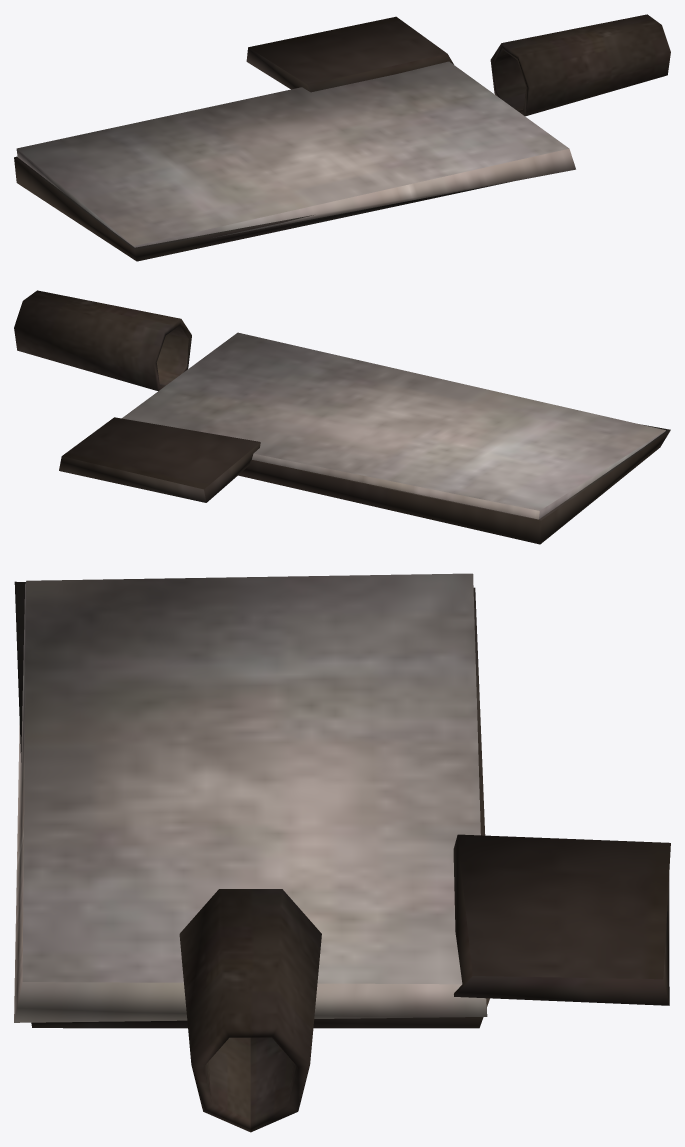
The model's file is kit_lw_spade_iron_p.glb.
3 views of the same model, one above another, from view 1: azimuth 30°, elevation 25°; view 2: azimuth 150°, elevation 25°; view 3: azimuth 270°, elevation 25° (orthographic). The views are drawn at different scales.
Visible parts, largest first — view 1: kit_lw_spade_iron_p; view 2: kit_lw_spade_iron_p; view 3: kit_lw_spade_iron_p.
Part boxes in pixels (bbox=[...]): kit_lw_spade_iron_p: bbox=[14, 14, 670, 261]; kit_lw_spade_iron_p: bbox=[14, 290, 670, 544]; kit_lw_spade_iron_p: bbox=[14, 573, 670, 1132].
Size of the model in its own units: 0.4042 by 0.0509 by 0.2158.
Materials: 1 (1 with a texture image).
